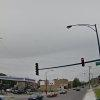Traffic light: (26, 54, 91, 77)
